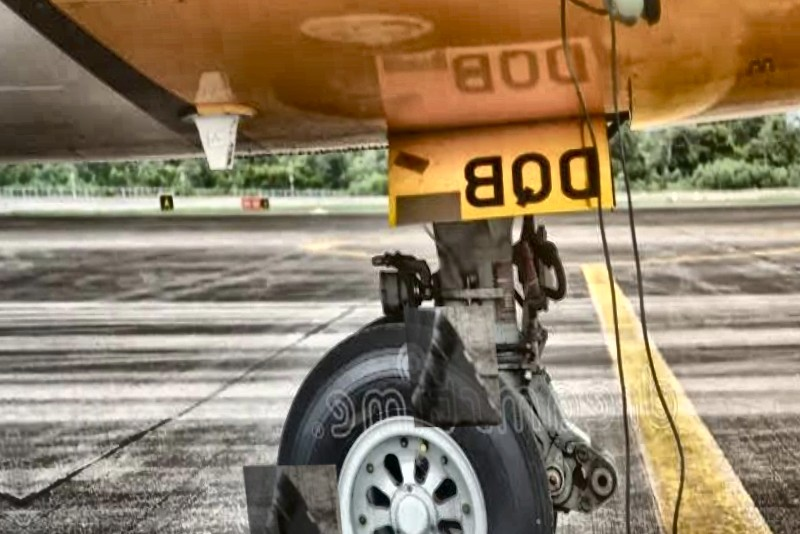chock: (404, 305, 503, 428), (243, 465, 348, 534)
wheel: (261, 313, 574, 534)
